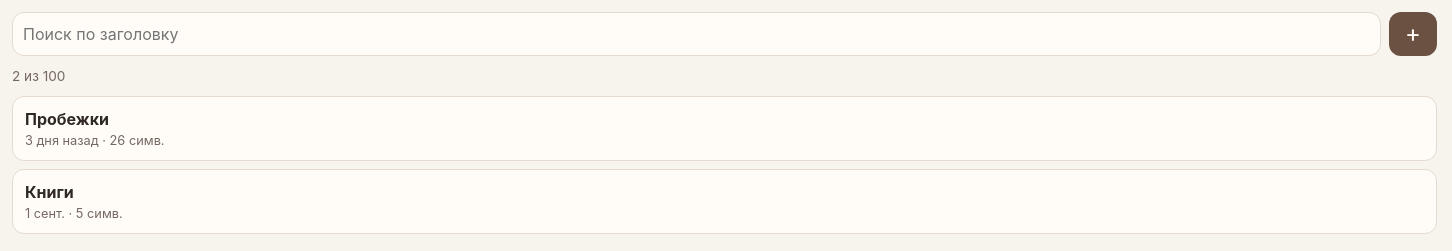
Test case: NotesScreen › filters by title case-insensitively without a server request
Type "КНИГ" into the search field with placeholder "Поиск по заголовку" at x=696, y=34, box [12,12,1381,56]
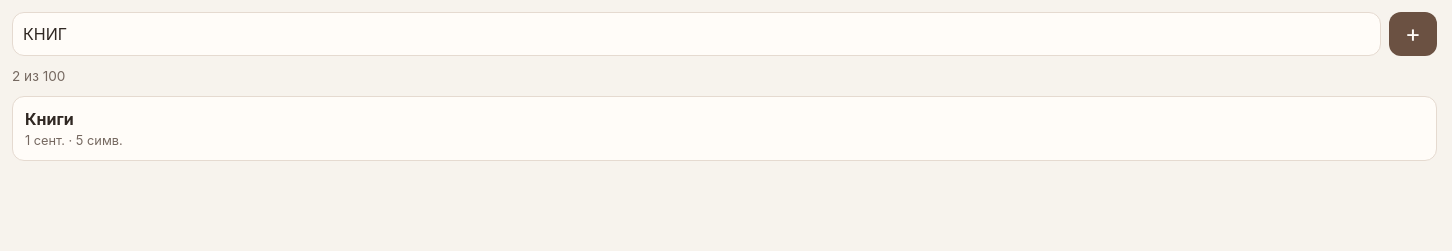
Check: the text "Книги" is shown, box [25,109,74,129]
Check: the text "Пробежки" is gone
